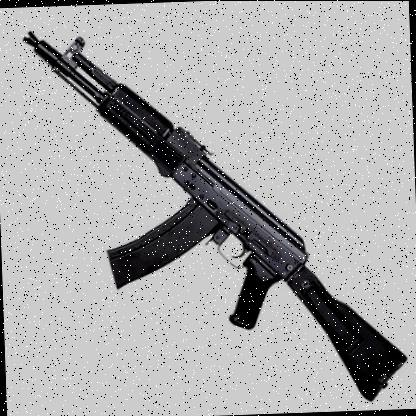rifle: (18, 11, 404, 404)
